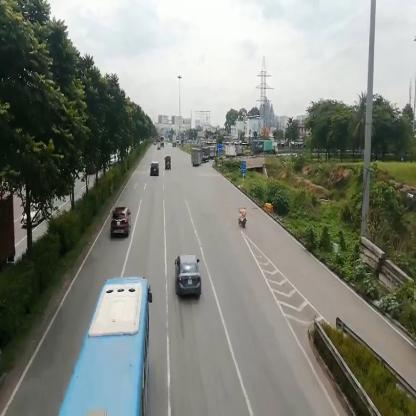bus: (82, 277, 153, 416)
car: (176, 255, 203, 296), (111, 207, 132, 240), (151, 162, 161, 178), (165, 156, 172, 172)
container: (251, 140, 279, 156)
motorbike: (239, 207, 248, 231)
truck: (193, 149, 204, 166), (226, 146, 237, 160)
